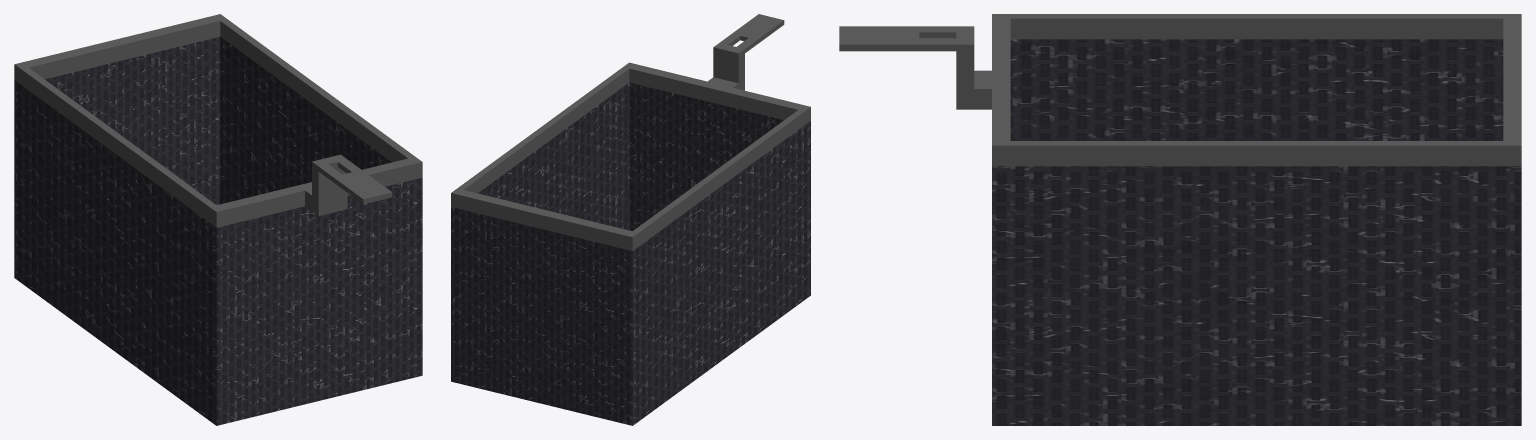
The model's file is basket.fbx.
3 renders of one model, left to right at view 1: azimuth 30°, elevation 25°; view 2: azimuth 150°, elevation 25°; view 3: azimuth 270°, elevation 25°, orthographic. The views are drawn at different scales.
Visible parts, largest first — view 1: Cube.009; view 2: Cube.009; view 3: Cube.009.
Part boxes in pixels (x1=…): Cube.009: x1=14, y1=14, x2=422, y2=425; Cube.009: x1=451, y1=14, x2=810, y2=425; Cube.009: x1=839, y1=14, x2=1521, y2=425.
Bounding box in the file's own units: 24.3 × 27.93 × 53.2.
